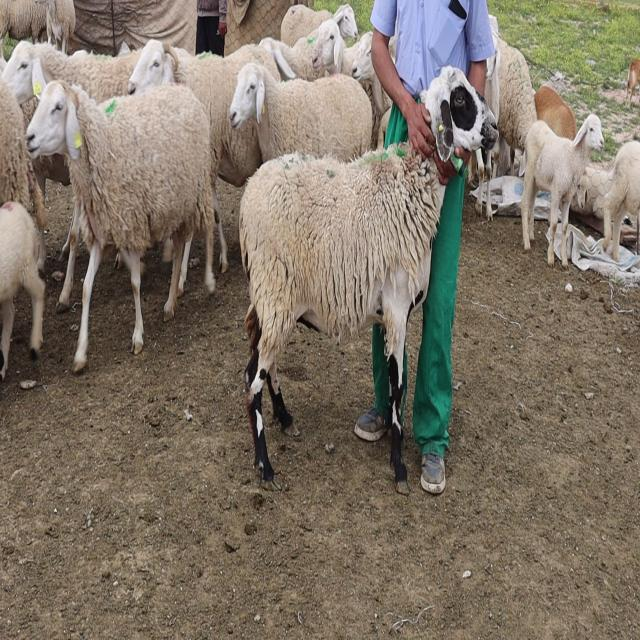Score_2: (238, 66, 499, 493)
